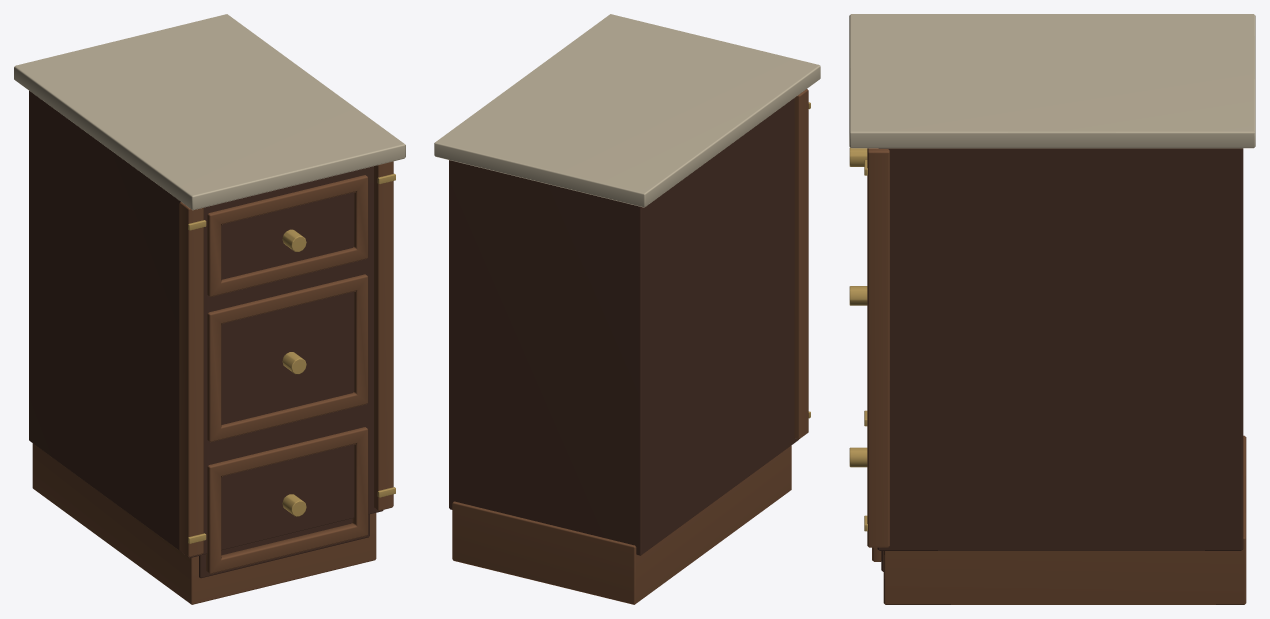
The model's file is rpg-mansion-kitchen-drawer-base-01.glb.
The picture shows the model from 3 angles, left to right: view 1: azimuth 30°, elevation 25°; view 2: azimuth 150°, elevation 25°; view 3: azimuth 270°, elevation 25°; orthographic projection. The views are drawn at different scales.
Parts seen in each view (by area): view 1: rpg-mansion-kitchen-drawer-base-01; view 2: rpg-mansion-kitchen-drawer-base-01; view 3: rpg-mansion-kitchen-drawer-base-01.
Boxes of the visible parts, x1,y1,x2,y2 form: rpg-mansion-kitchen-drawer-base-01: (14,14,405,604); rpg-mansion-kitchen-drawer-base-01: (434,14,820,604); rpg-mansion-kitchen-drawer-base-01: (849,14,1255,604).
Size of the model in its own units: 0.45 by 0.85 by 0.65.
